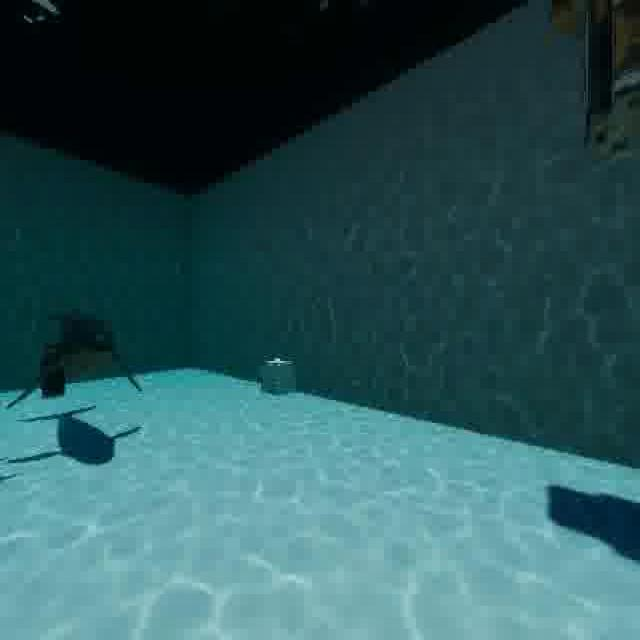Control Panel: (542, 4, 640, 170)
Cylinder: (35, 336, 70, 407)
Docking Station: (257, 353, 295, 401)
Whale: (43, 297, 144, 405)
